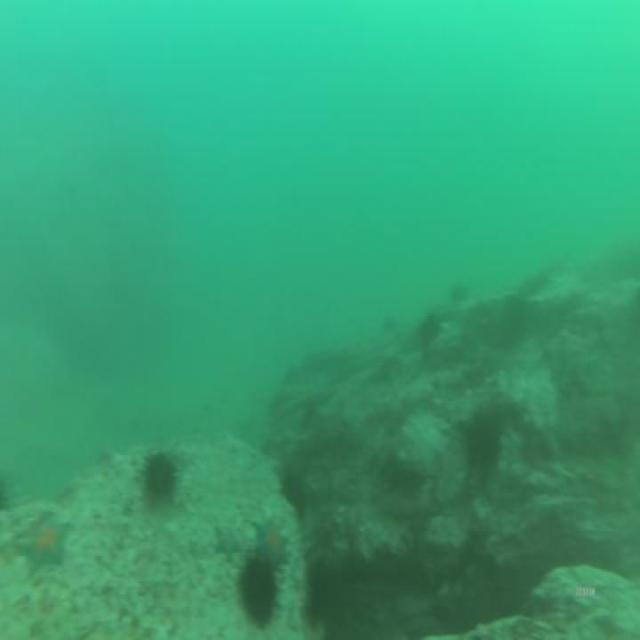echinus: (239, 558, 276, 618), (464, 411, 502, 466), (278, 471, 308, 521), (145, 454, 177, 496), (419, 313, 441, 352)
starfish: (19, 518, 66, 566), (251, 512, 287, 566), (213, 517, 239, 561)
